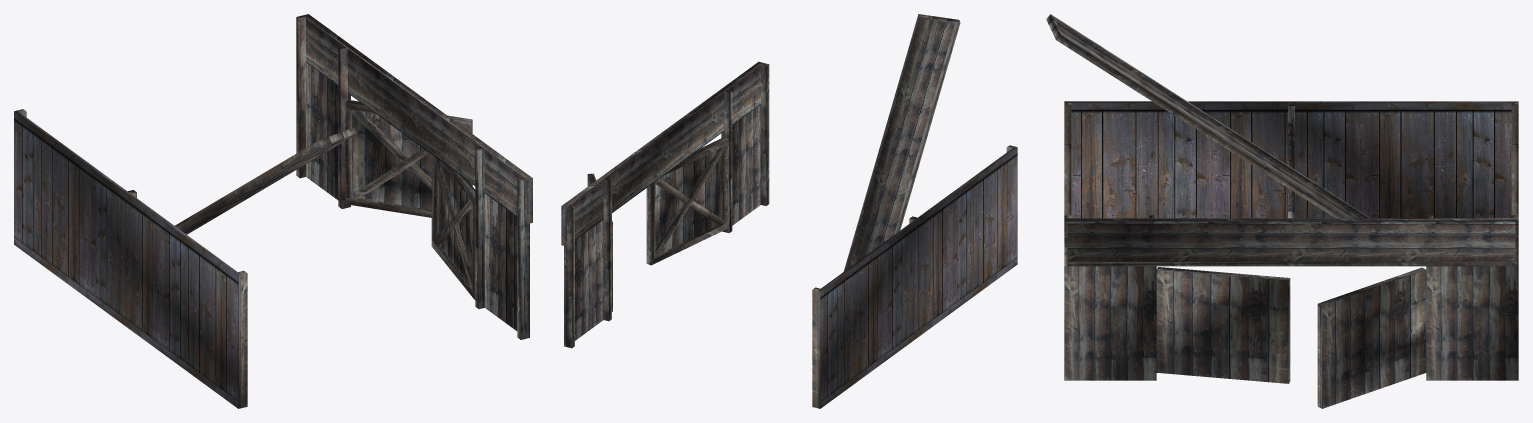
The model's file is westgates1.fbx.
3 views of the same model, side by side, from view 1: azimuth 30°, elevation 25°; view 2: azimuth 150°, elevation 25°; view 3: azimuth 270°, elevation 25° (orthographic). The views are drawn at different scales.
Visible parts, largest first — view 1: westgates1; view 2: westgates1; view 3: westgates1.
Boxes of the visible parts, x1=… form: westgates1: x1=14, y1=14, x2=532, y2=408; westgates1: x1=561, y1=14, x2=1017, y2=408; westgates1: x1=1046, y1=14, x2=1518, y2=408.
Bounding box in the file's own units: 47643 × 32161 × 53233.
